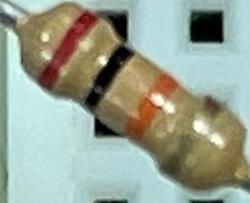Black: (81, 41, 138, 114)
Orange: (122, 72, 179, 144)
Red: (36, 9, 98, 93)
Side-Gold: (159, 95, 222, 180)
